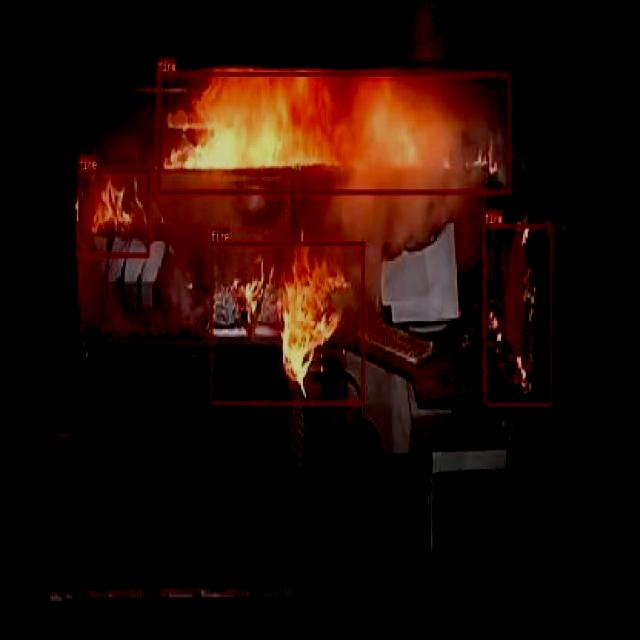fire: (156, 71, 509, 194), (210, 241, 364, 404), (484, 224, 552, 406), (78, 169, 148, 257)
